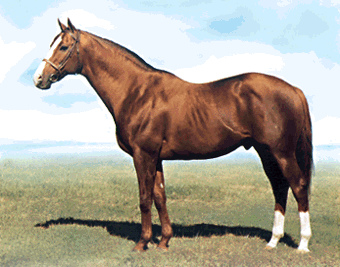horse: (27, 13, 335, 263)
